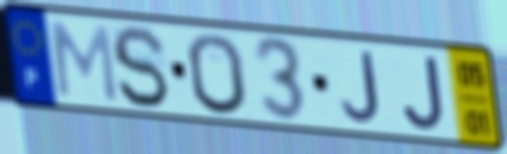3: (254, 33, 306, 126)
J: (400, 53, 448, 134), (338, 49, 384, 126)
M: (47, 19, 121, 106)
O: (184, 31, 251, 118)
S: (108, 22, 173, 112)
